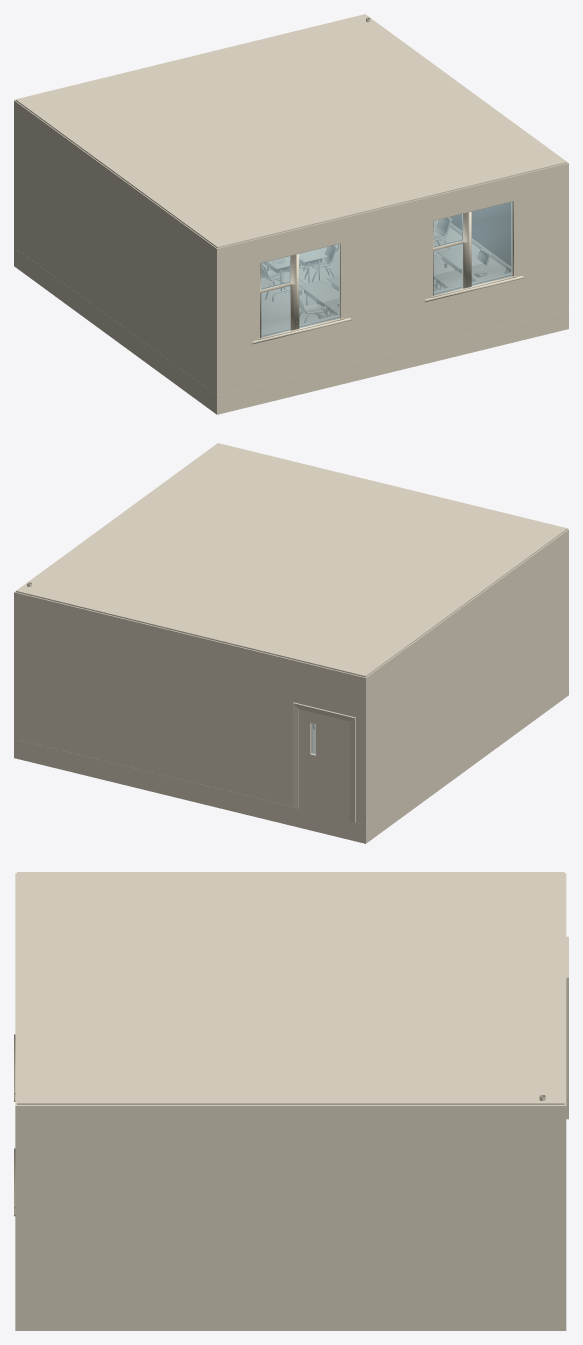
Rendered from low-poly-classroom-uncompressed.glb.
3 views of the same model, one above another, from view 1: azimuth 30°, elevation 25°; view 2: azimuth 150°, elevation 25°; view 3: azimuth 270°, elevation 25° (orthographic). The views are drawn at different scales.
Visible parts, largest first — view 1: BezierCircle_CUBezierCircle; view 2: BezierCircle_CUBezierCircle; view 3: BezierCircle_CUBezierCircle.
Boxes of the visible parts, x1,y1,x2,y2 form: BezierCircle_CUBezierCircle: (14,14,568,414); BezierCircle_CUBezierCircle: (14,443,568,843); BezierCircle_CUBezierCircle: (14,872,568,1330).
Bounding box in the file's own units: 35.2 × 16.25 × 35.46.
